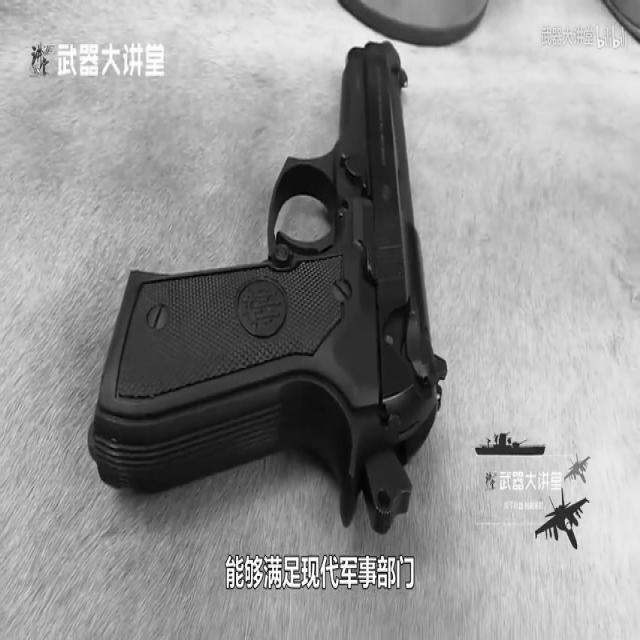Hand-Gun: (83, 24, 451, 523)
